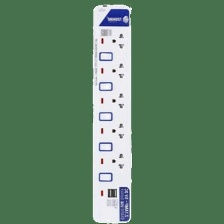three_eye_plug: (90, 2, 134, 224)
